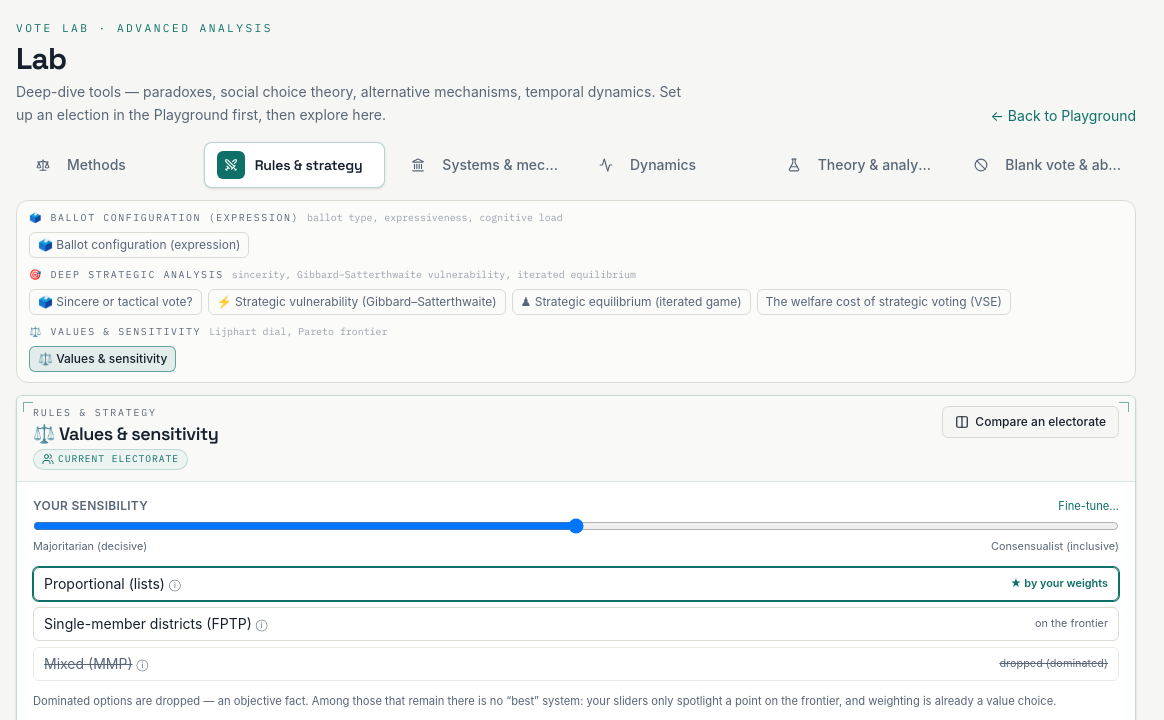
Test case: LaboratoirePage — the bench › the values fiche keeps the Lijphart dial and its granular escape hatch
Expected: the element with test id "lens-item-pr" is shown, [33,567,1119,601]
Set the slider with test id "lijphart-dial" to "0" at (41, 526), box [33,518,1119,534]
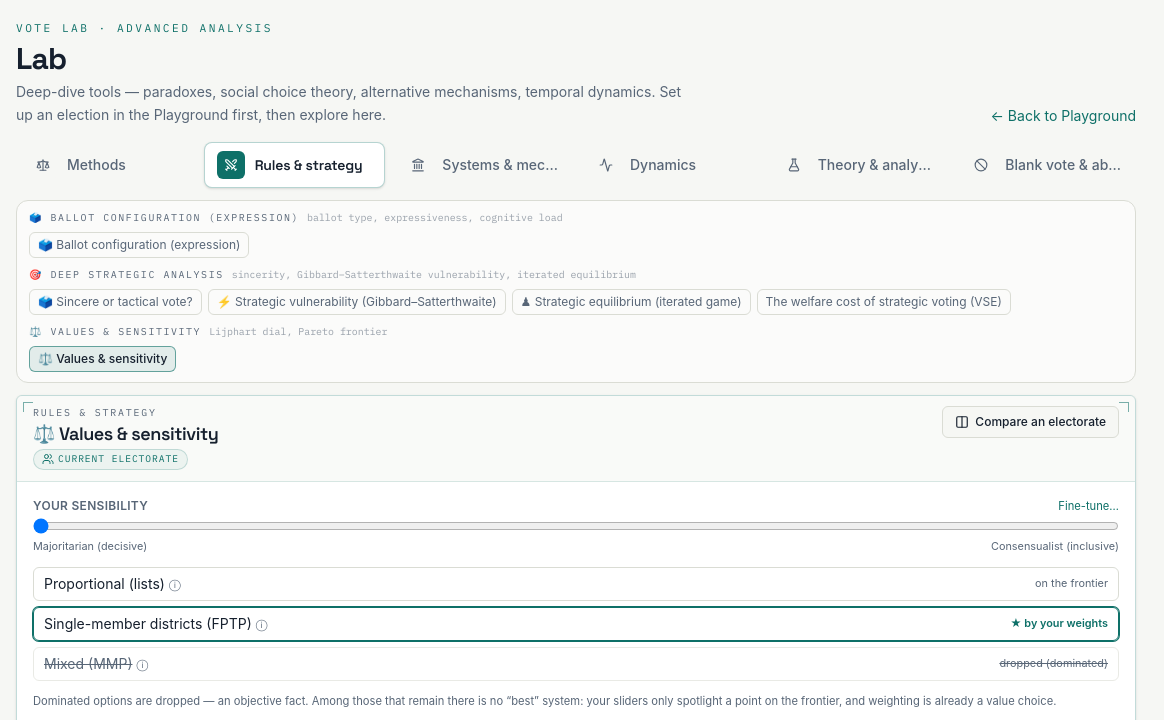
Result: the element with test id "lens-item-fptp" shows "by your weights" at [1024,616,1108,630]
Set the slider with test id "lijphart-dial" to "1" at (1111, 526), box [33,518,1119,534]
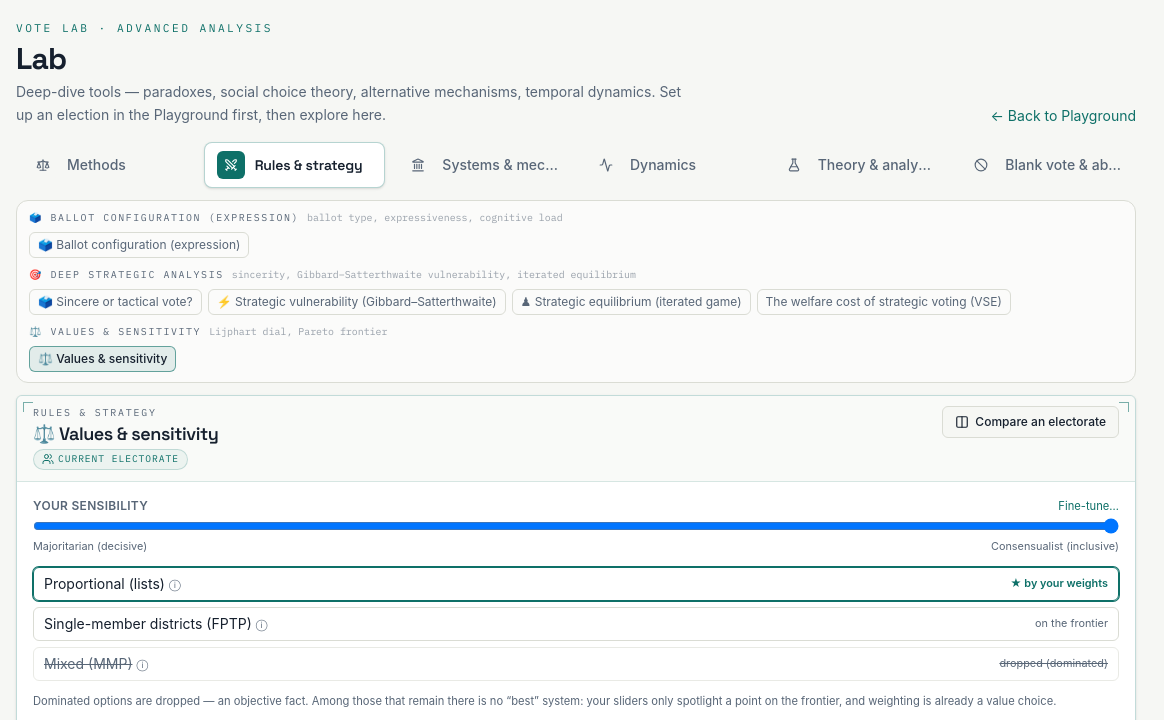
Result: the element with test id "lens-item-pr" shows "by your weights" at [1024,576,1108,590]
Click the button with test id "lens-granular-toggle" at (1089, 506), box [1058,499,1119,514]
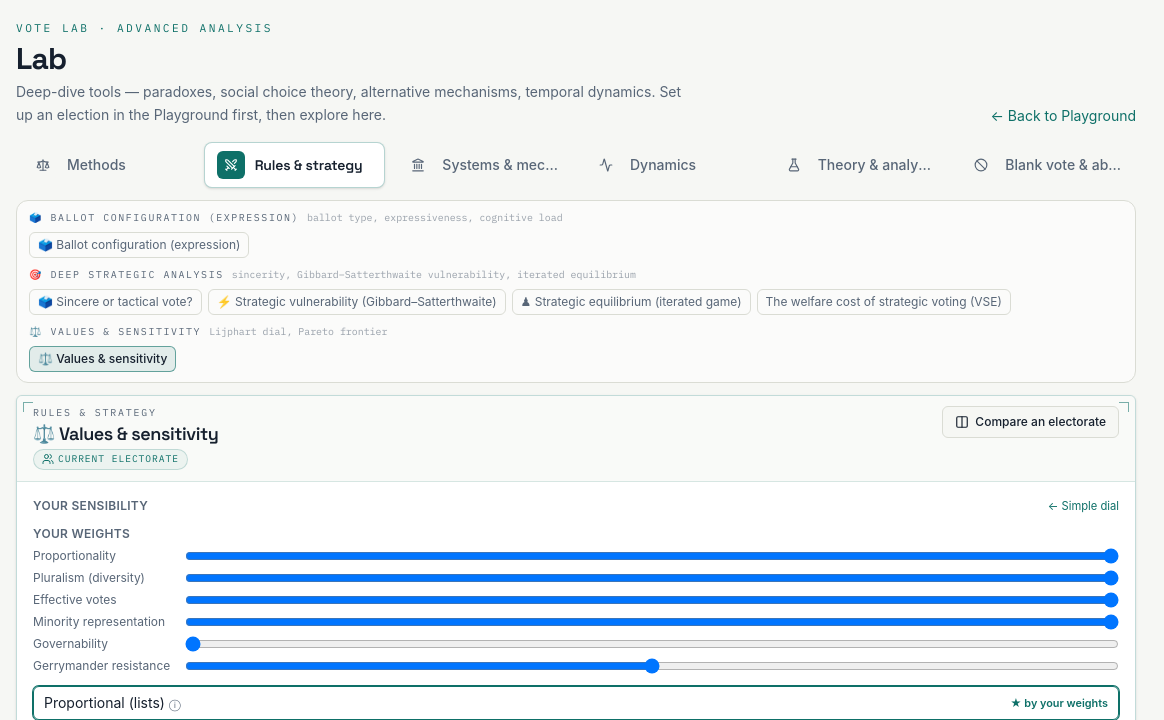
Result: the slider with test id "lijphart-dial" is gone
Result: the slider with test id "weight-proportionality" is shown at [185,548,1119,564]
